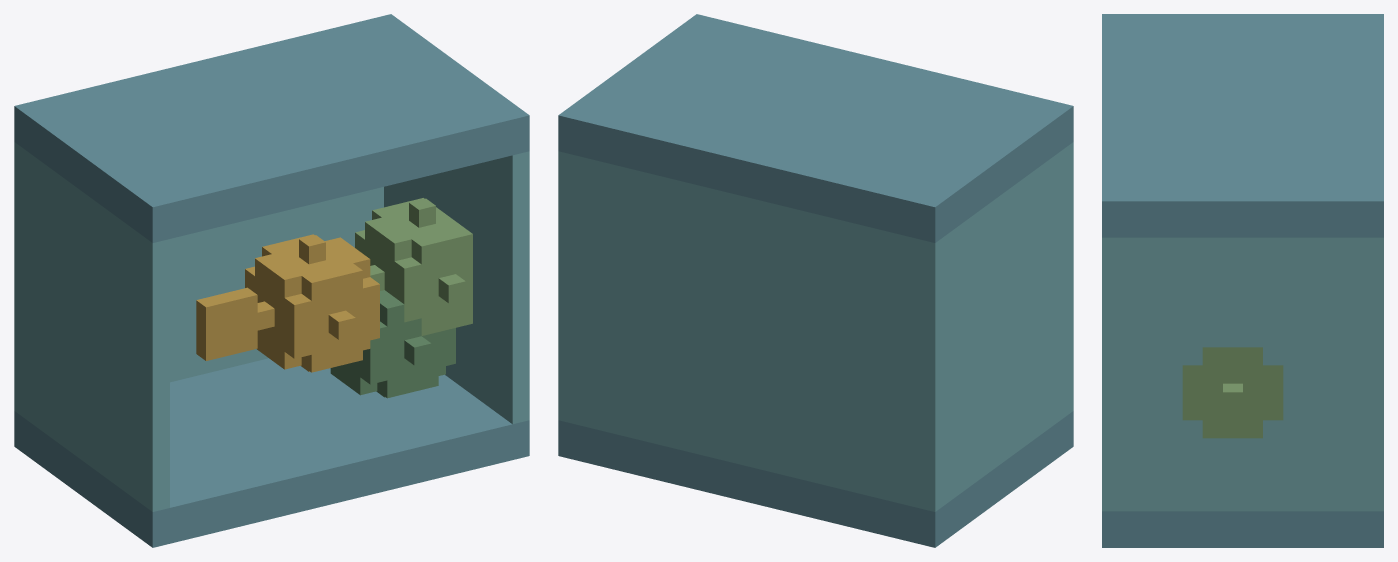
The model's file is ocean-01.glb.
3 views of the same model, side by side, from view 1: azimuth 30°, elevation 25°; view 2: azimuth 150°, elevation 25°; view 3: azimuth 270°, elevation 25° (orthographic).
Parts seen in each view (by area): view 1: Research aquarium; view 2: Research aquarium; view 3: Research aquarium.
Part boxes in pixels (<box>): Research aquarium: <box>14,14,529,547</box>; Research aquarium: <box>558,14,1073,547</box>; Research aquarium: <box>1102,14,1383,547</box>.
Size of the model in its own units: 1.84 by 1.52 by 1.12.
